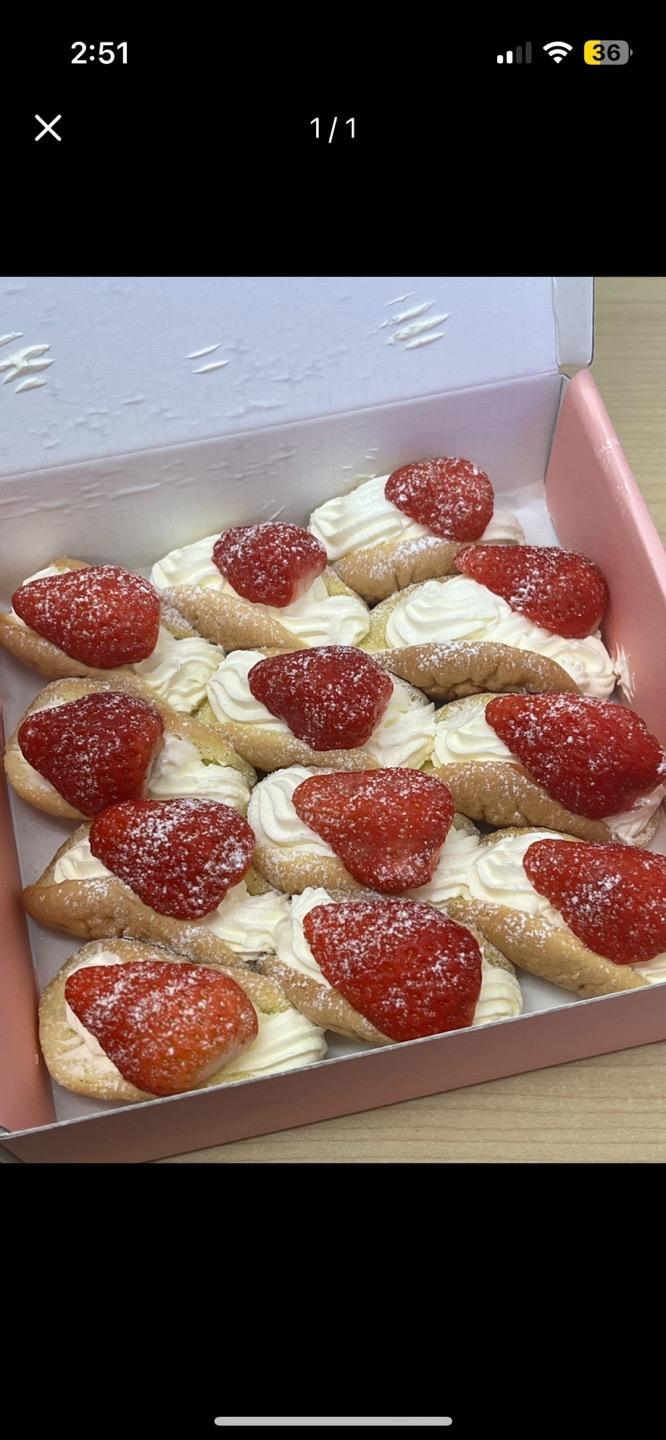Lunch Box: (0, 277, 665, 1162)
